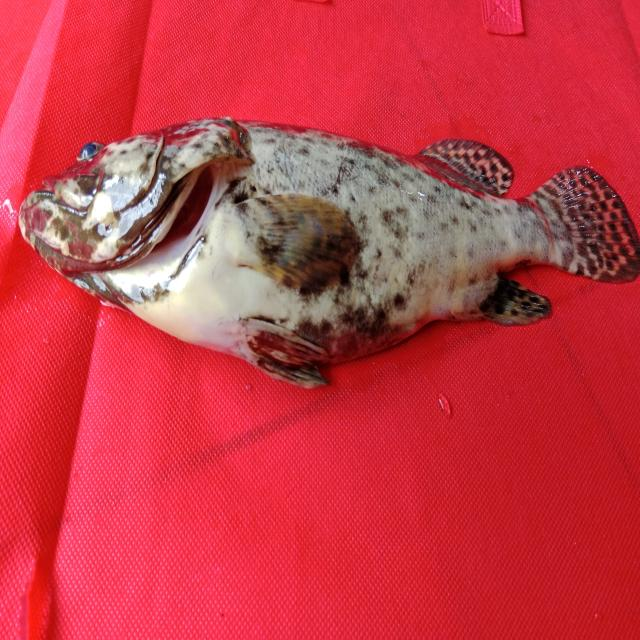ikan: (17, 115, 638, 391)
